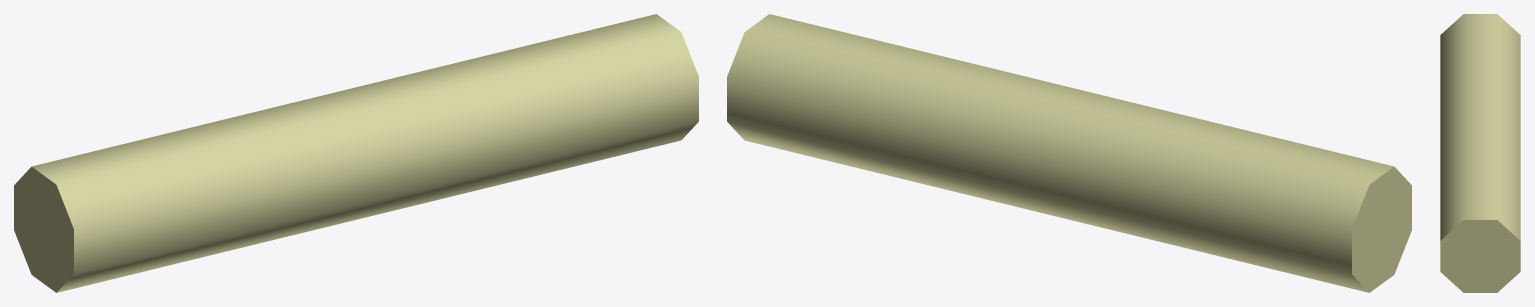
Rendered from 0324_Yellow_Chalk.glb.
The picture shows the model from 3 angles, left to right: view 1: azimuth 30°, elevation 25°; view 2: azimuth 150°, elevation 25°; view 3: azimuth 270°, elevation 25°; orthographic projection. The views are drawn at different scales.
Parts seen in each view (by area): view 1: part_0; view 2: part_0; view 3: part_0.
Boxes of the visible parts, x1,y1,x2,y2 form: part_0: (14,14,698,292); part_0: (727,14,1411,292); part_0: (1440,14,1520,292).
Size of the model in its own units: 0.065 by 0.0108 by 0.0108.
1 material, 1 textured.
